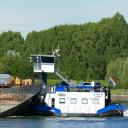tugboat: (23, 44, 126, 120)
